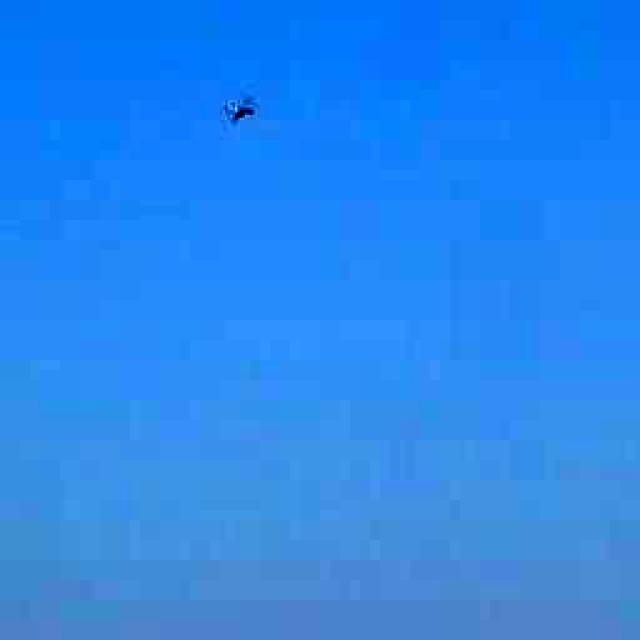bird: (202, 66, 280, 144)
